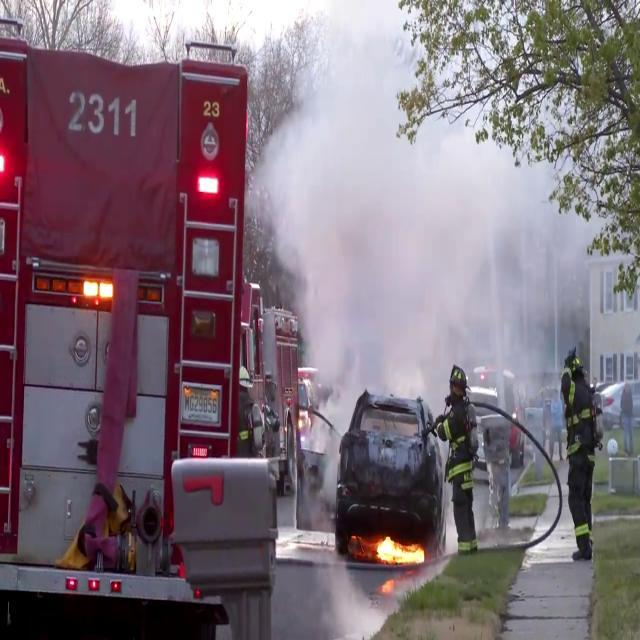Fire: (371, 528, 423, 572)
Smoke: (248, 8, 623, 406)
